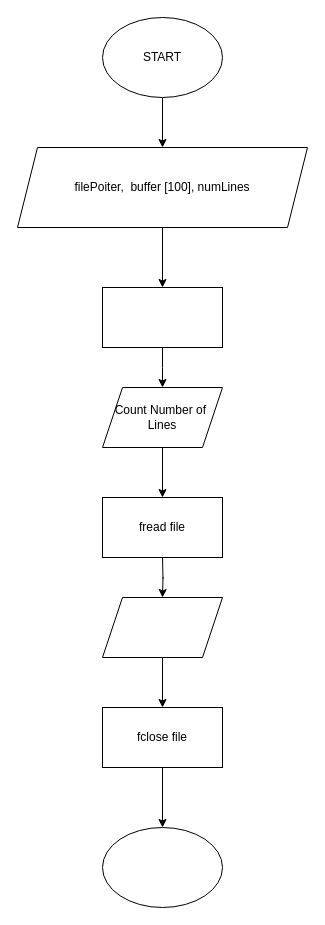
This 325x925 diagram has some shape labels left out. The centre of each missing label's shape, as x and y in pixels:
"END" goes at point (162, 867).
"fopen file" goes at point (162, 317).
"in ra so dong, và noi dung file" goes at point (162, 627).
